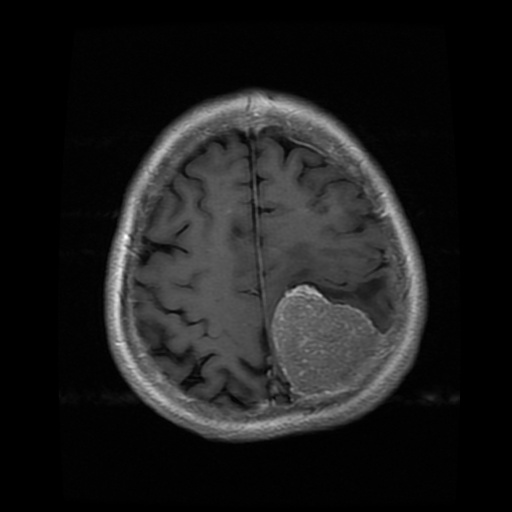meningioma: (273, 286, 393, 398)
